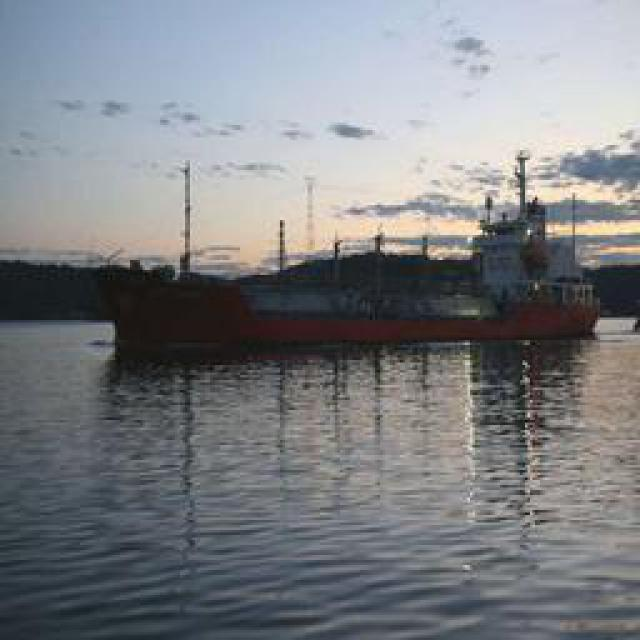Ship: (120, 266, 603, 344)
